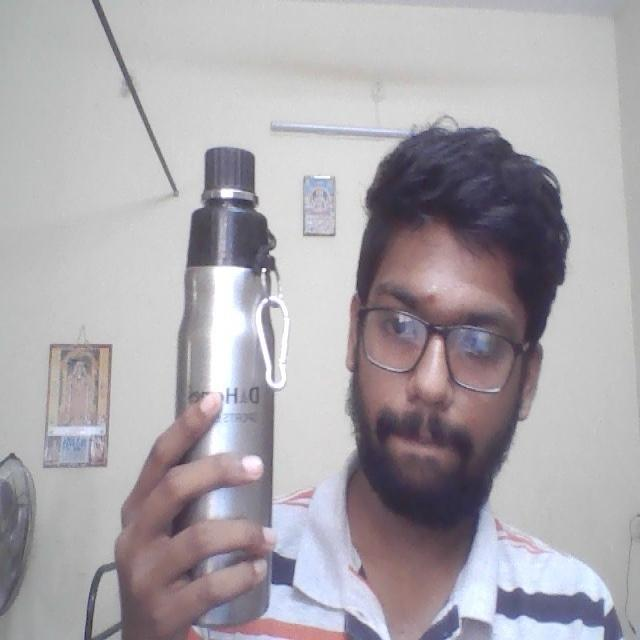Drinking: (180, 135, 281, 616)
